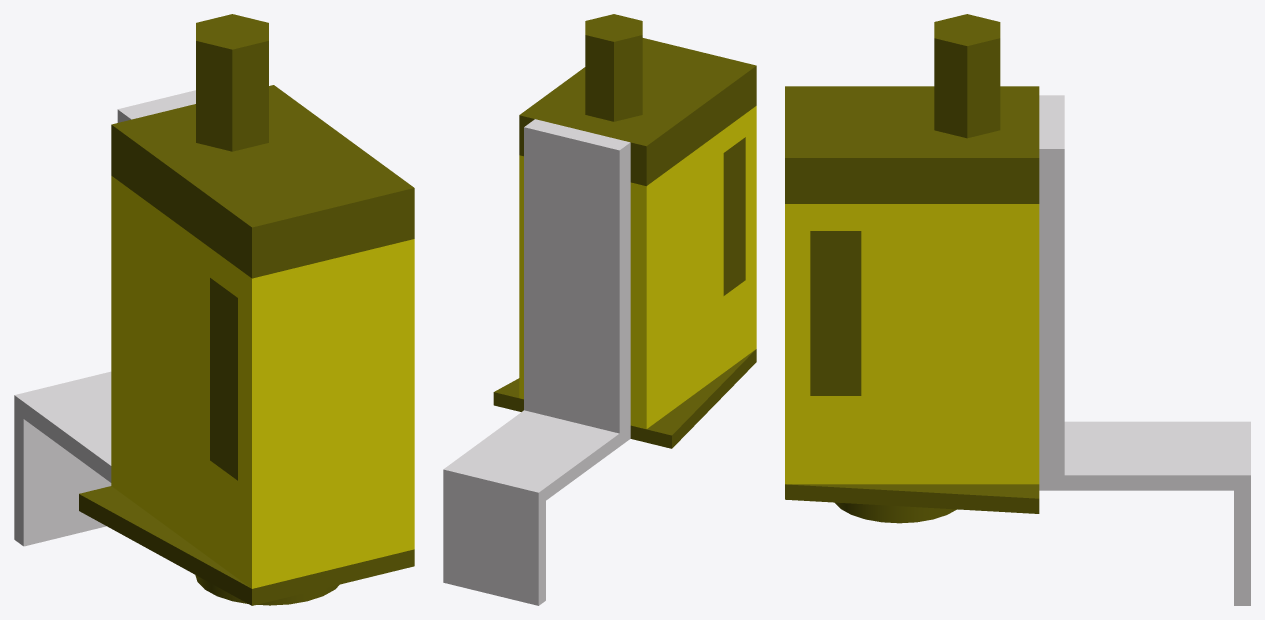
The model's file is photo_eye.dae.
The picture shows the model from 3 angles, left to right: view 1: azimuth 30°, elevation 25°; view 2: azimuth 150°, elevation 25°; view 3: azimuth 270°, elevation 25°; orthographic projection. The views are drawn at different scales.
Parts seen in each view (by area): view 1: instance_0_006, instance_0_005, instance_0_004, instance_0_002, instance_0_003, instance_0_008, instance_0_001; view 2: instance_0_004, instance_0_006, instance_0_005, instance_0_002, instance_0_003, instance_0_008; view 3: instance_0_006, instance_0_005, instance_0_004, instance_0_007, instance_0_002, instance_0_003, instance_0_001.
Part boxes in pixels (left/top/right/bottom): instance_0_006: left=111, top=176, right=414, bottom=588; instance_0_005: left=111, top=85, right=414, bottom=278; instance_0_004: left=14, top=90, right=195, bottom=546; instance_0_002: left=196, top=14, right=268, bottom=151; instance_0_003: left=79, top=486, right=414, bottom=605; instance_0_008: left=210, top=278, right=237, bottom=480; instance_0_001: left=195, top=575, right=339, bottom=605; instance_0_004: left=443, top=119, right=630, bottom=605; instance_0_006: left=519, top=106, right=756, bottom=429; instance_0_005: left=519, top=38, right=756, bottom=186; instance_0_002: left=585, top=14, right=642, bottom=121; instance_0_003: left=493, top=349, right=756, bottom=448; instance_0_008: left=723, top=137, right=745, bottom=295; instance_0_006: left=785, top=204, right=1039, bottom=484; instance_0_005: left=785, top=86, right=1039, bottom=203; instance_0_004: left=1039, top=95, right=1250, bottom=605; instance_0_007: left=810, top=231, right=861, bottom=395; instance_0_002: left=934, top=14, right=1000, bottom=138; instance_0_003: left=785, top=484, right=1039, bottom=513; instance_0_001: left=835, top=502, right=956, bottom=523.
Size of the model in its own units: 22.05 by 56.3 by 43.31.
